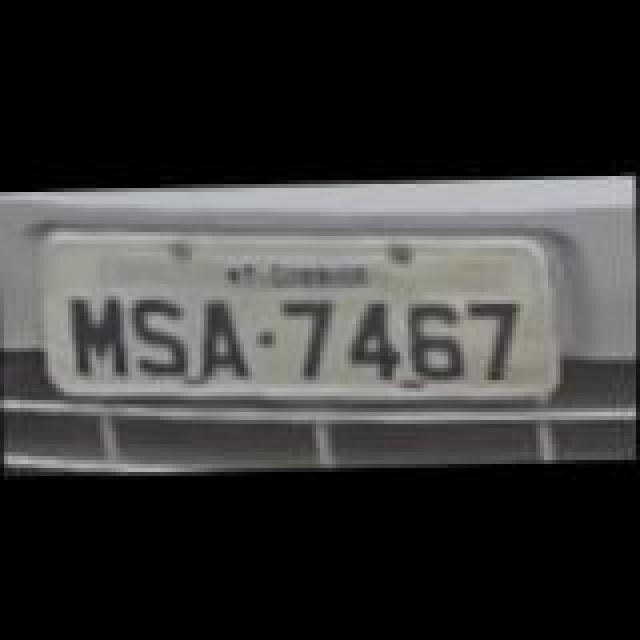4: (346, 298, 402, 374)
6: (404, 296, 464, 372)
7: (466, 292, 522, 372), (282, 294, 338, 374)
A: (198, 298, 254, 378)
M: (66, 288, 130, 376)
S: (132, 290, 192, 370)
